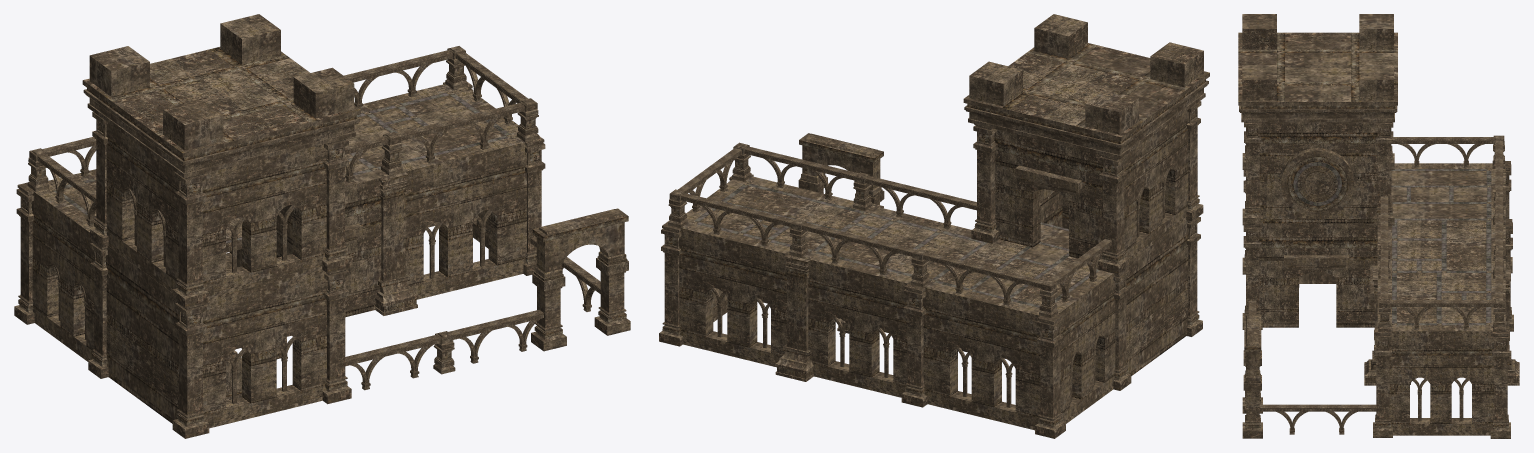
The model's file is materials_5_building_0.fbx.
3 renders of one model, left to right at view 1: azimuth 30°, elevation 25°; view 2: azimuth 150°, elevation 25°; view 3: azimuth 270°, elevation 25°, orthographic. The views are drawn at different scales.
Parts seen in each view (by area): view 1: materials_5_building_0; view 2: materials_5_building_0; view 3: materials_5_building_0.
Boxes of the visible parts, x1,y1,x2,y2 form: materials_5_building_0: (14, 14, 630, 438); materials_5_building_0: (659, 14, 1209, 438); materials_5_building_0: (1238, 14, 1519, 438).
Size of the model in its own units: 1913 by 1273 by 1294.
